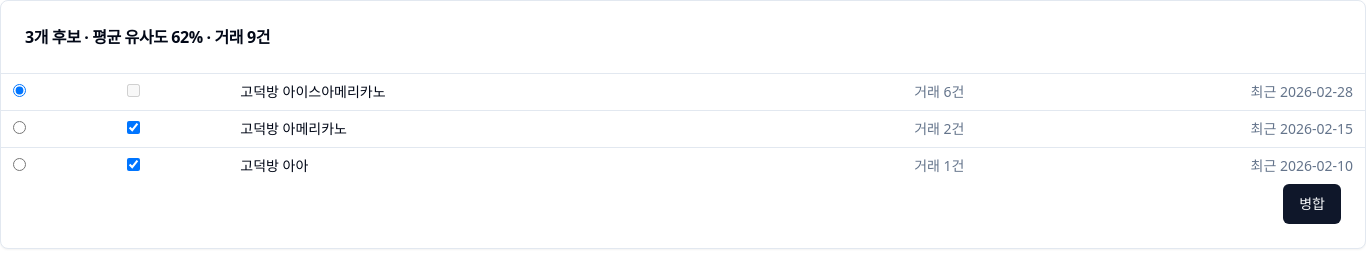
Test: ClusterCard › ClusterCard: canonical 라디오 변경 시 이전 canonical은 흡수로 자동 이동(swap)
The image size is (1366, 266).
Click the radio button named "대표: 고덕방 아메리카노" at (20, 128), box [13,121,26,134]
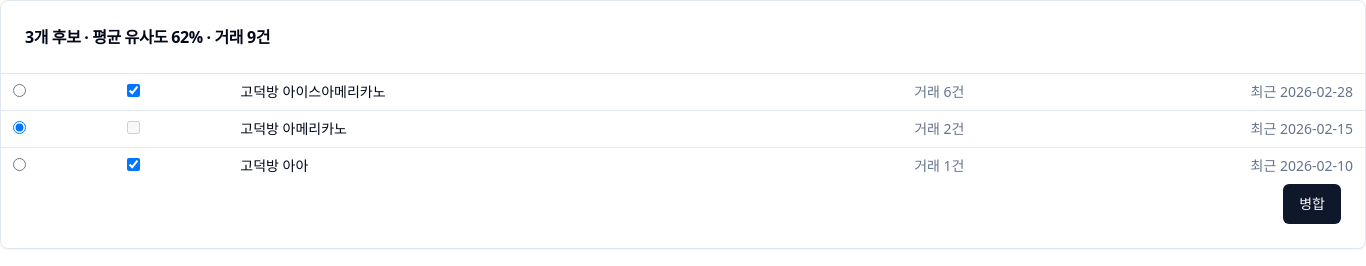
expect the checkbox named "흡수: 고덕방 아이스아메리카노" is checked: met, box [127,84,140,97]
expect the checkbox named "흡수: 고덕방 아이스아메리카노" is enabled: met, box [127,84,140,97]
expect the checkbox named "흡수: 고덕방 아메리카노" is disabled: met, box [127,121,140,134]
